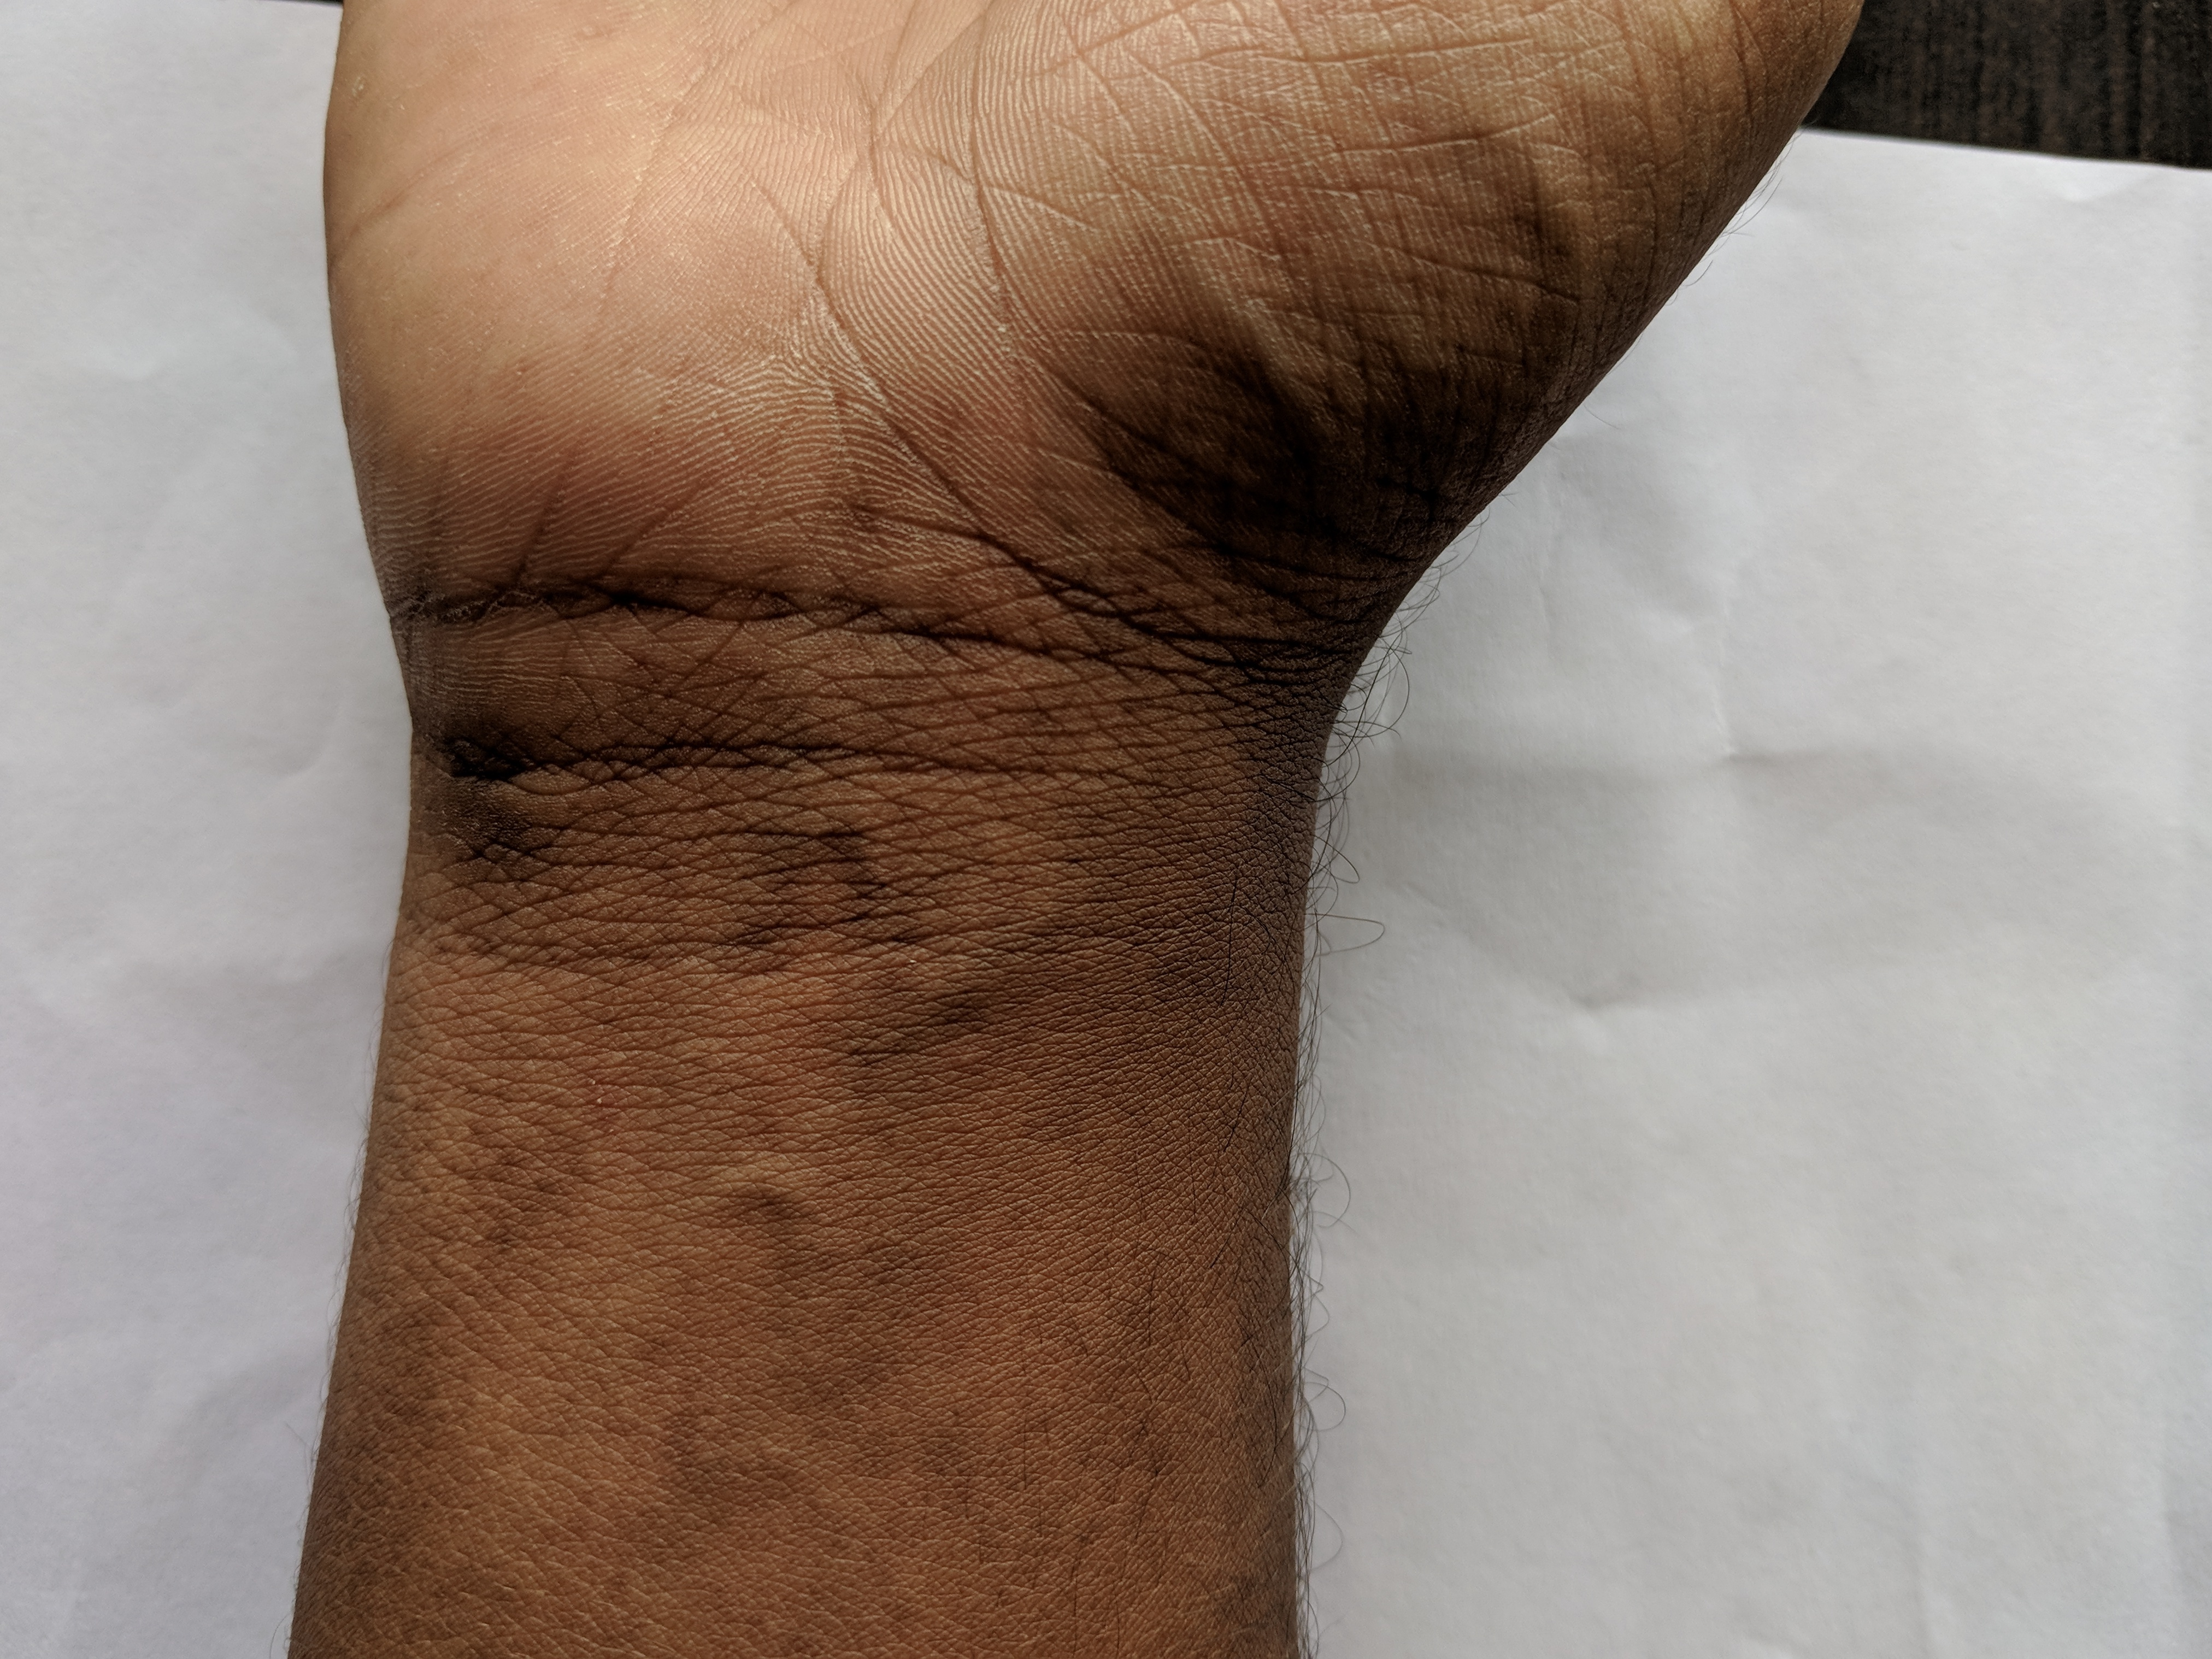righthandwrist: (374, 582, 1416, 1042)
